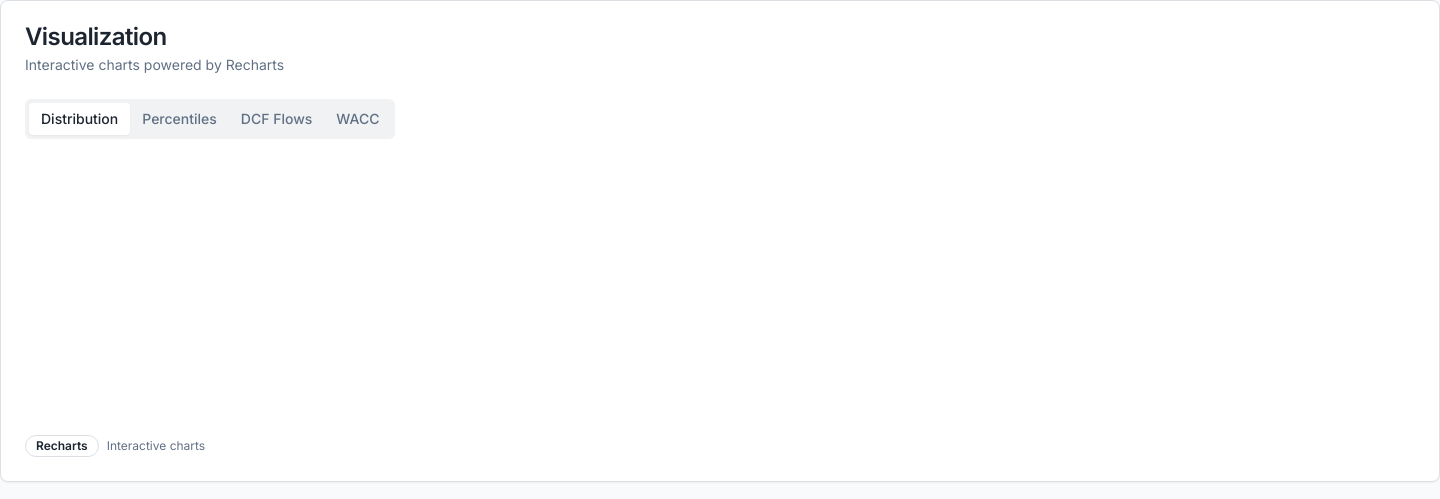
it: ValuationCharts › charts WACC capital weights and formats the cost breakdown on the WACC tab
Step 1. Click the tab "WACC" → (358, 119), box [324,103,391,135]
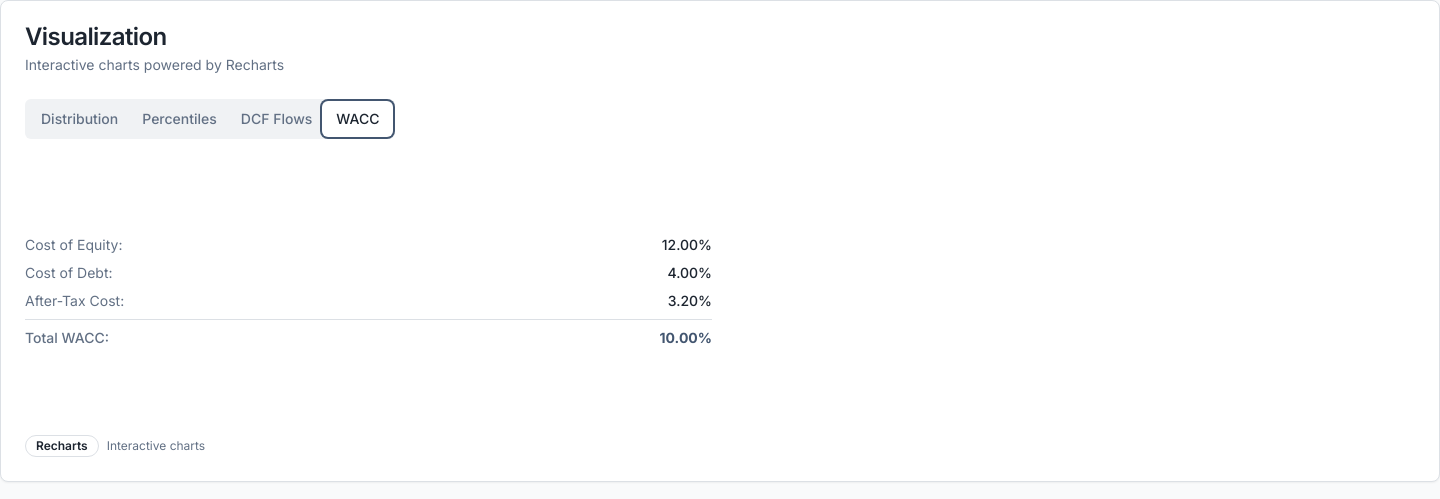
Expected: the text "12.00%" is shown, [662,234,712,254]
Expected: the text "4.00%" is shown, [667,262,712,282]
Expected: the text "3.20%" is shown, [668,290,712,310]
